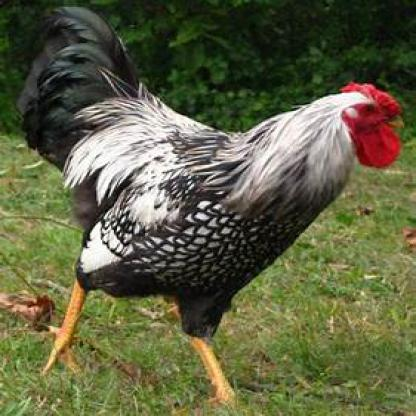dog: (22, 6, 404, 402)
